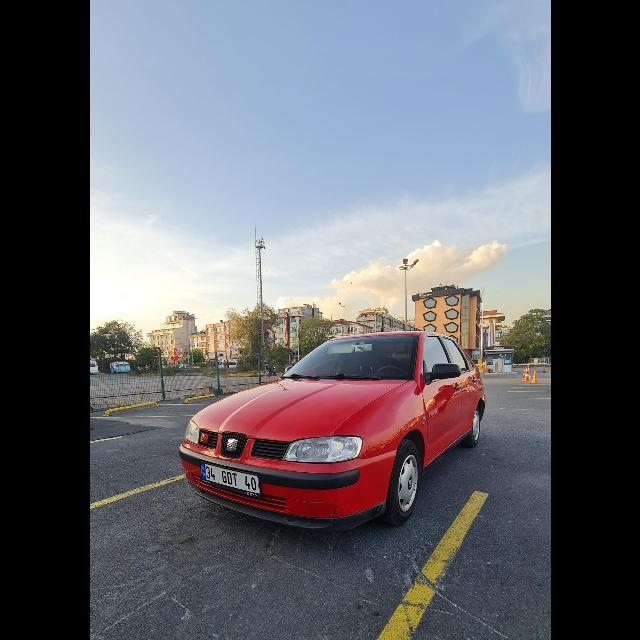Plaka: (201, 463, 259, 493)
